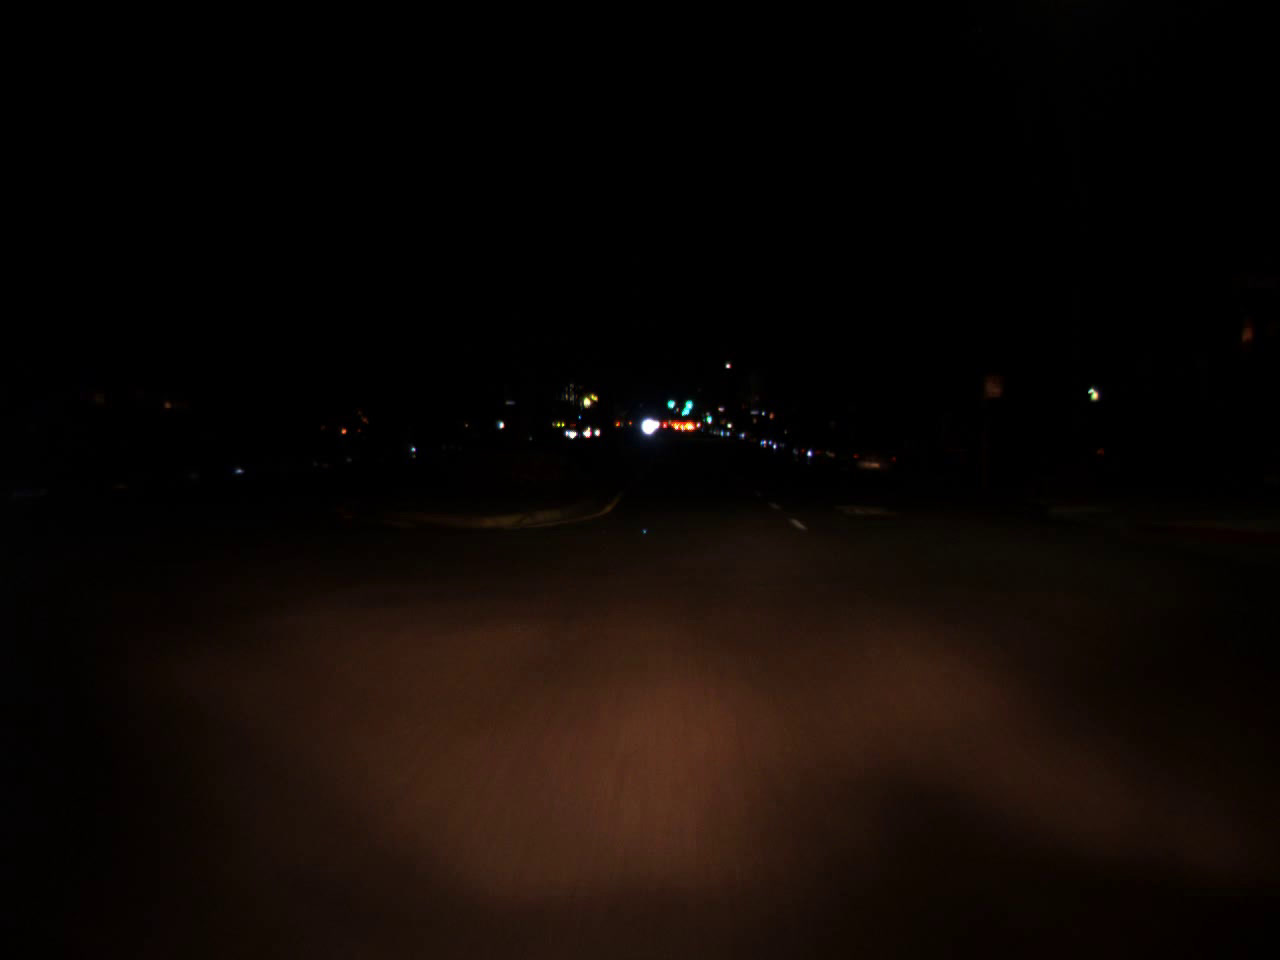go: (681, 391, 695, 412), (665, 390, 675, 411), (705, 411, 712, 423)
